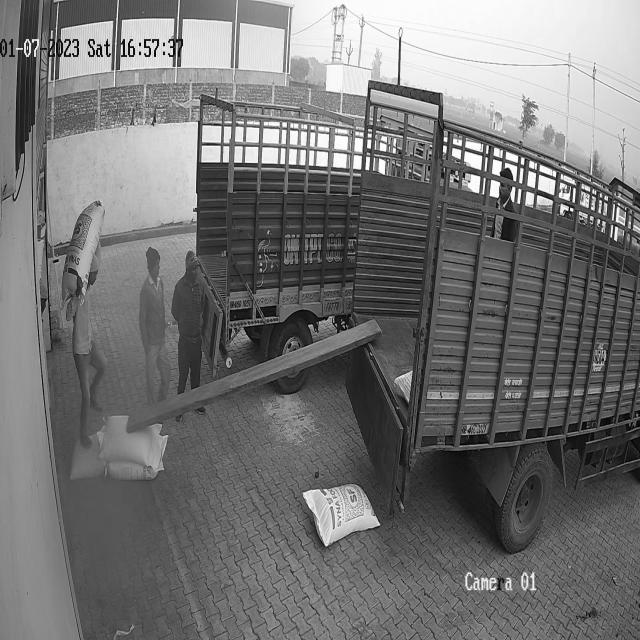sack: (304, 484, 380, 544), (61, 201, 104, 303), (97, 414, 163, 466), (105, 435, 167, 481), (69, 431, 106, 477)
